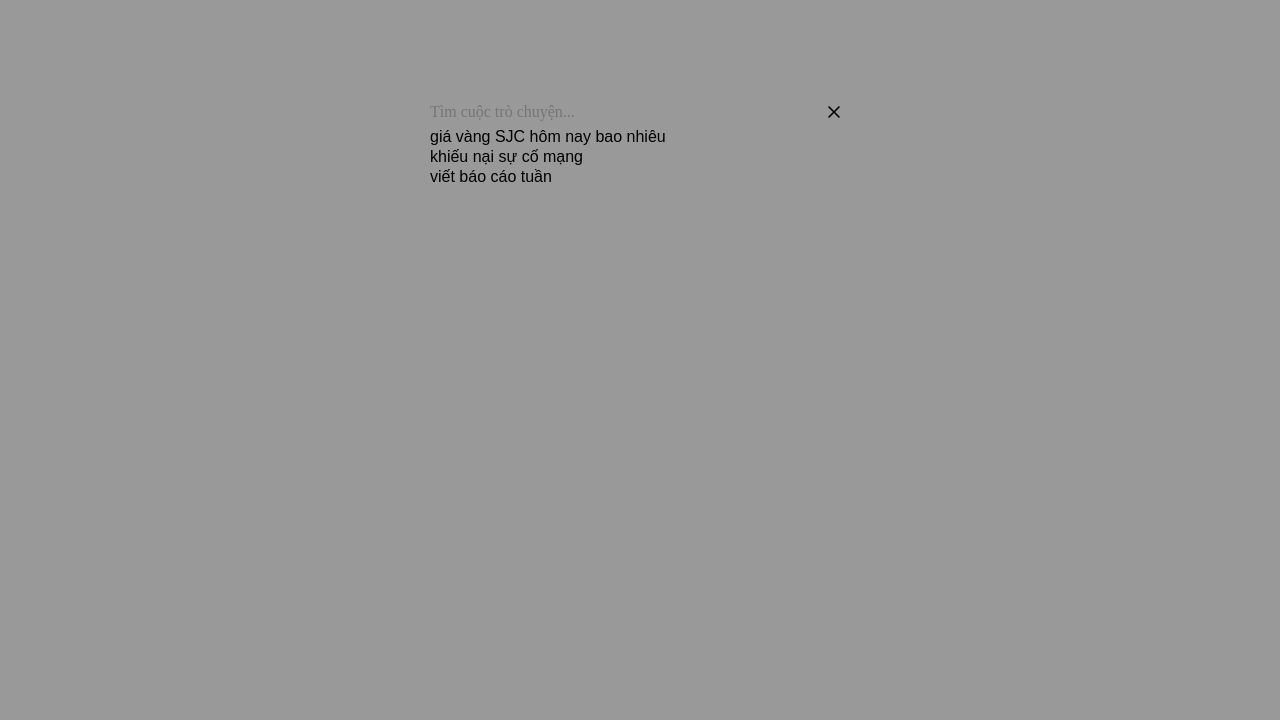
Test: SearchModal › sau khi debounce hết hạn -> lọc đúng theo title, không phân biệt hoa/thường
Type "KHIẾU NẠI" into the field with placeholder "Tìm cuộc trò chuyện..." at (624, 112), box 430,103 -> 818,121
Wait 350 ms
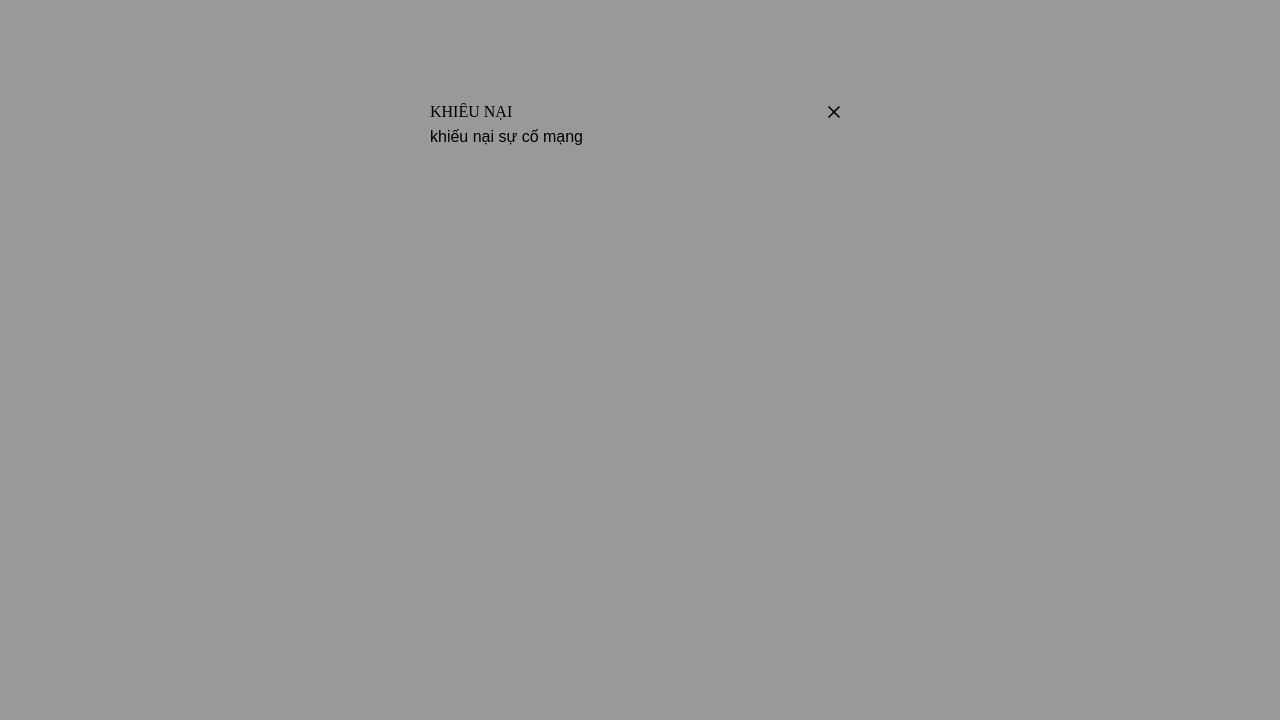
Expected: the button "khiếu nại sự cố mạng" is shown, 430,128 -> 850,146
Expected: the button "giá vàng SJC hôm nay bao nhiêu" is gone
Expected: the button "viết báo cáo tuần" is gone
